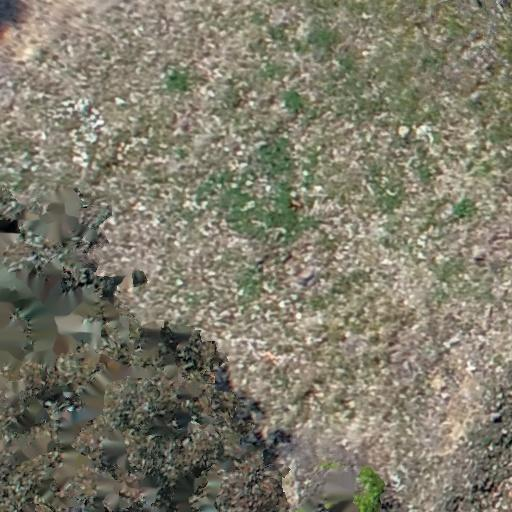stone: (396, 124, 410, 138), (490, 410, 502, 424)
